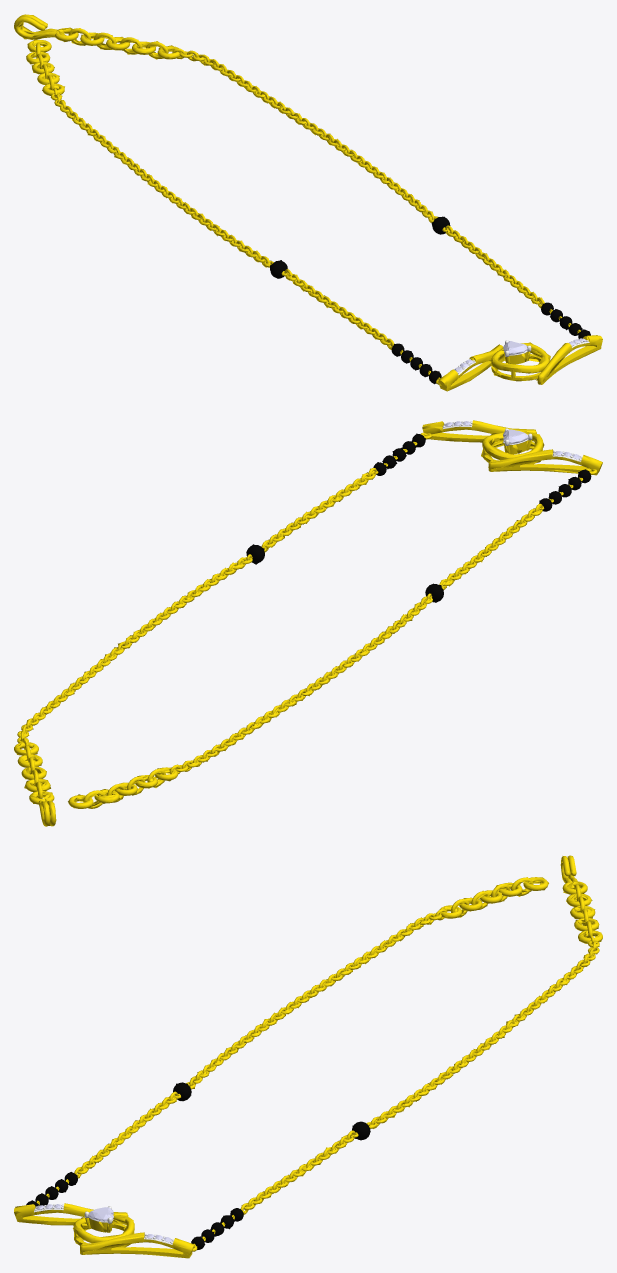
File: DPN-D000679126_GT-D000685776.glb
3 renders of one model, top to bottom at view 1: azimuth 30°, elevation 25°; view 2: azimuth 150°, elevation 25°; view 3: azimuth 330°, elevation 25°, orthographic. The views are drawn at different scales.
Visible parts, largest first — view 1: highPolyMesh, lowPolyMesh; view 2: highPolyMesh, lowPolyMesh; view 3: highPolyMesh, lowPolyMesh.
Part boxes in pixels (x1=…): highPolyMesh: x1=14, y1=14, x2=602, y2=391; lowPolyMesh: x1=14, y1=15, x2=602, y2=388; highPolyMesh: x1=14, y1=420, x2=602, y2=826; lowPolyMesh: x1=15, y1=421, x2=601, y2=825; highPolyMesh: x1=14, y1=855, x2=602, y2=1258; lowPolyMesh: x1=14, y1=856, x2=601, y2=1258.
Bounding box in the file's own units: 0.0354 × 0.00533 × 0.1612.
